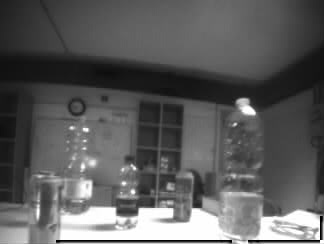Bottle: (219, 98, 262, 244), (66, 116, 92, 209), (115, 155, 140, 227)
Tin can: (29, 174, 60, 244), (174, 172, 192, 221)
